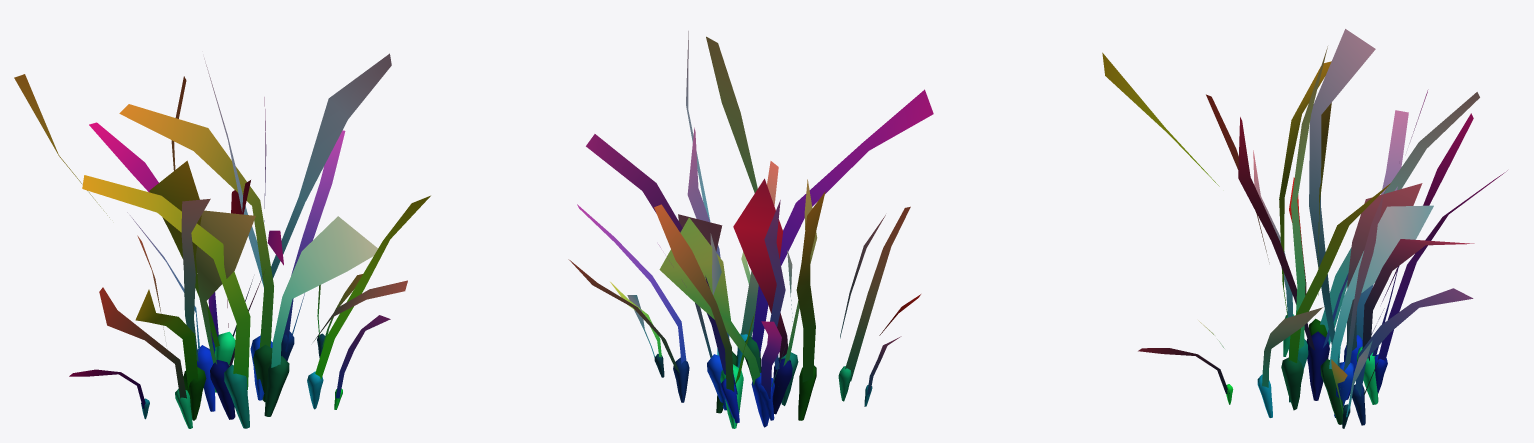
File: Ribbon_Grass_tbdpec3r_High_tbdpec3r_VarE_LOD1.glb
3 views of the same model, side by side, from view 1: azimuth 30°, elevation 25°; view 2: azimuth 150°, elevation 25°; view 3: azimuth 270°, elevation 25° (orthographic). The views are drawn at different scales.
Visible parts, largest first — view 1: _d012_VarE_LOD2; view 2: _d012_VarE_LOD2; view 3: _d012_VarE_LOD2.
Part boxes in pixels (left/top/right/bottom): _d012_VarE_LOD2: left=14, top=53, right=430, bottom=428; _d012_VarE_LOD2: left=568, top=31, right=933, bottom=428; _d012_VarE_LOD2: left=1102, top=29, right=1507, bottom=428.
Size of the model in its own units: 0.3515 by 0.2907 by 0.2879.
